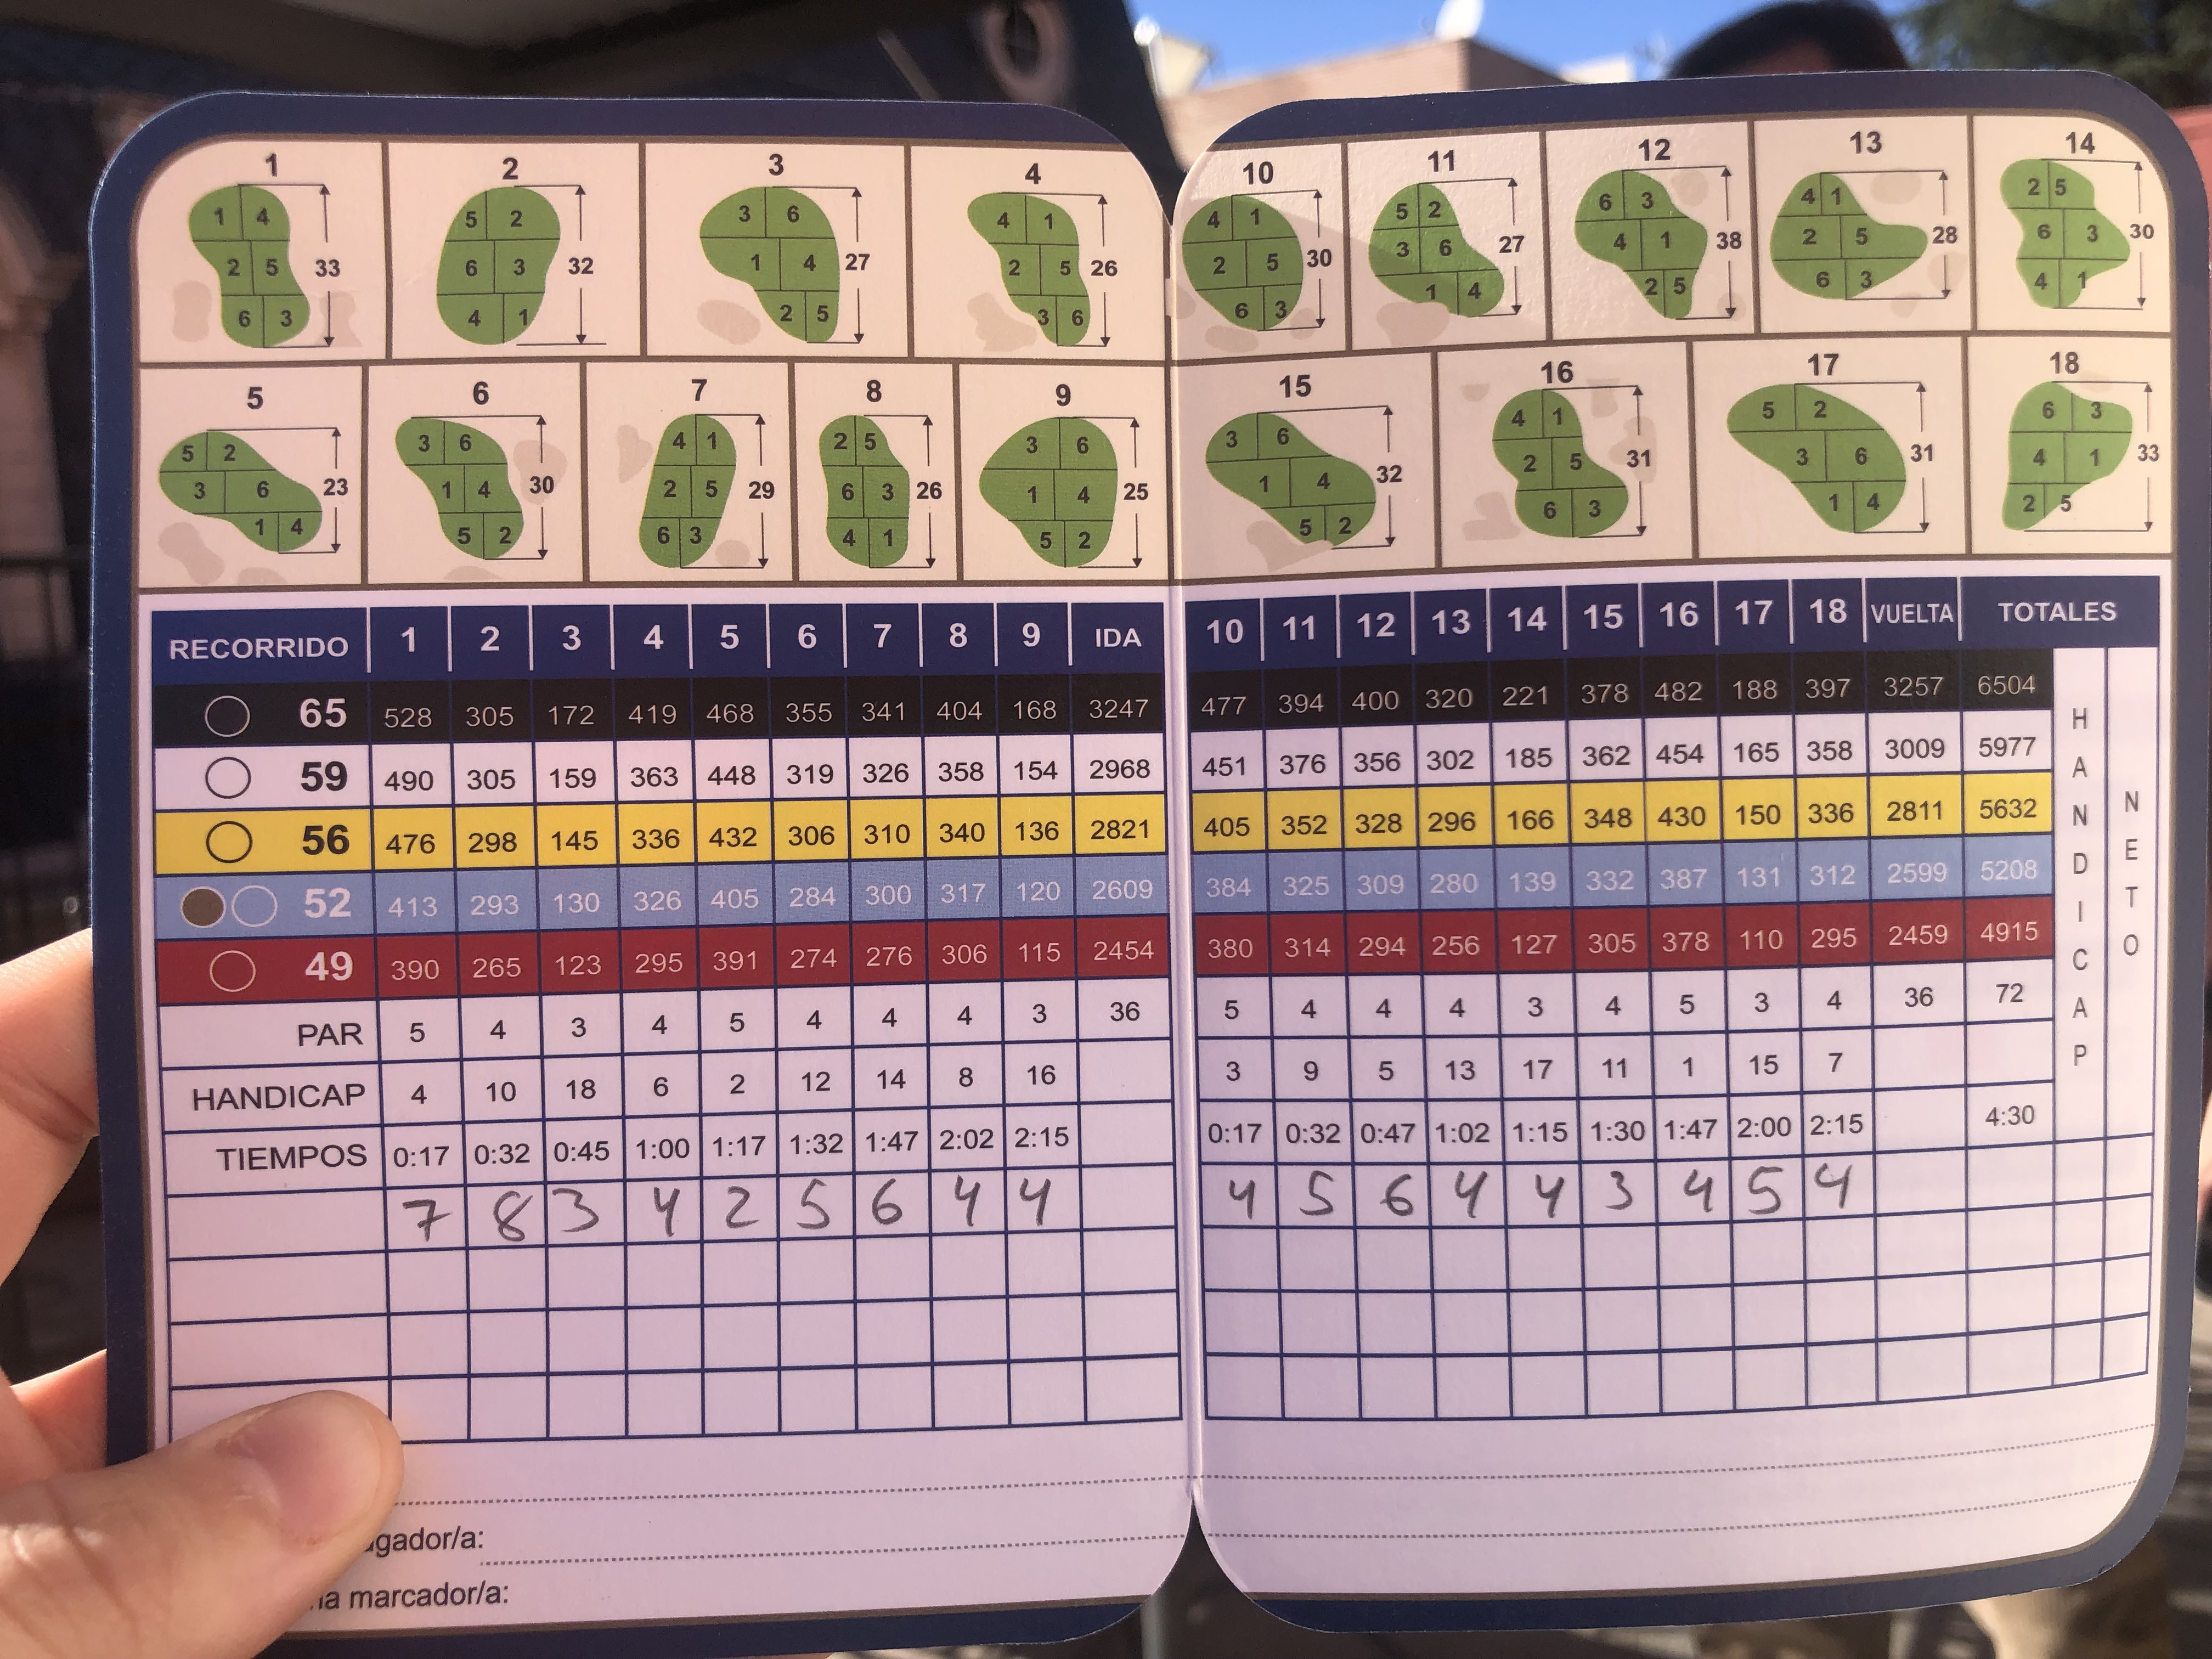par: (286, 981, 2034, 1049)
score: (404, 1169, 1865, 1244)
